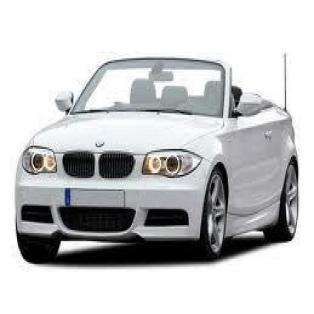Auto: (12, 47, 301, 265)
